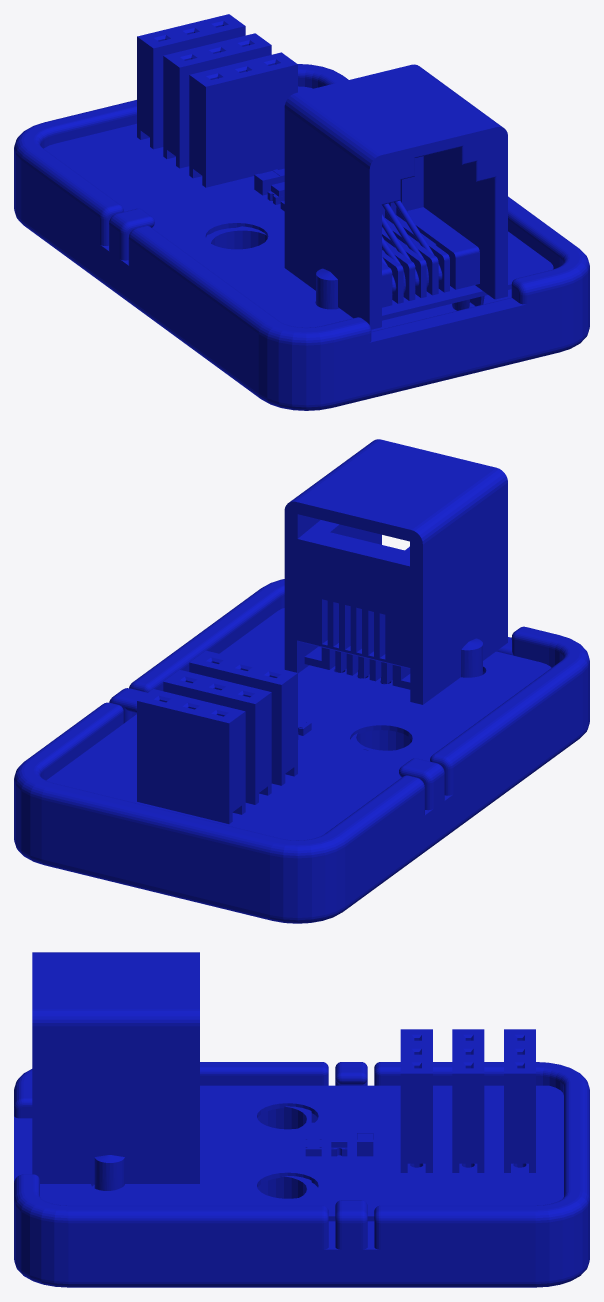
Rendered from Module_Servo.glb.
3 renders of one model, top to bottom at view 1: azimuth 30°, elevation 25°; view 2: azimuth 150°, elevation 25°; view 3: azimuth 270°, elevation 25°, orthographic.
Visible parts, largest first — view 1: defaultobject; view 2: defaultobject; view 3: defaultobject.
Part boxes in pixels (x1,y1,x2,y2): defaultobject: (14,14,589,410); defaultobject: (14,439,589,923); defaultobject: (14,952,589,1287).
Bounding box in the file's own units: 71.88 × 49.85 × 112.
